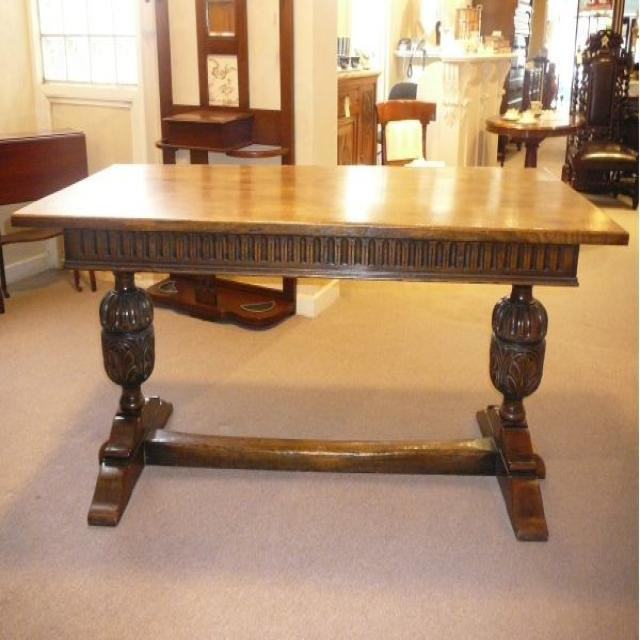table: (12, 158, 629, 540), (484, 108, 586, 168)
